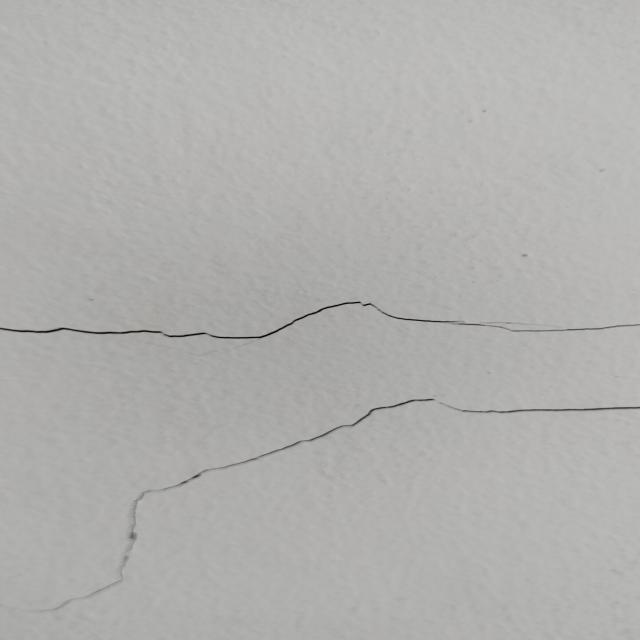Crack: (0, 390, 640, 619), (0, 292, 640, 348)
